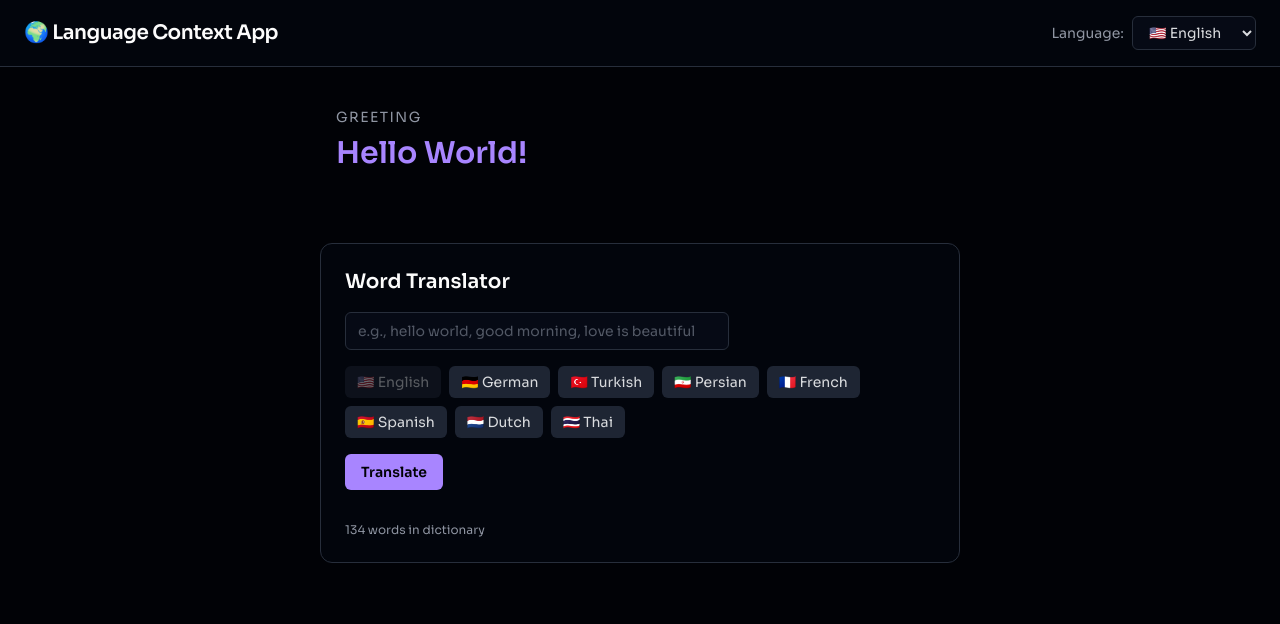
it: shows indicator for unknown words
Type a word that doesn't exist in dictionary
In the field with placeholder "e.g., hello world, good morning, love is beautiful": {"x": 537, "y": 331} [345,312,729,350], type "xyzunknown123"
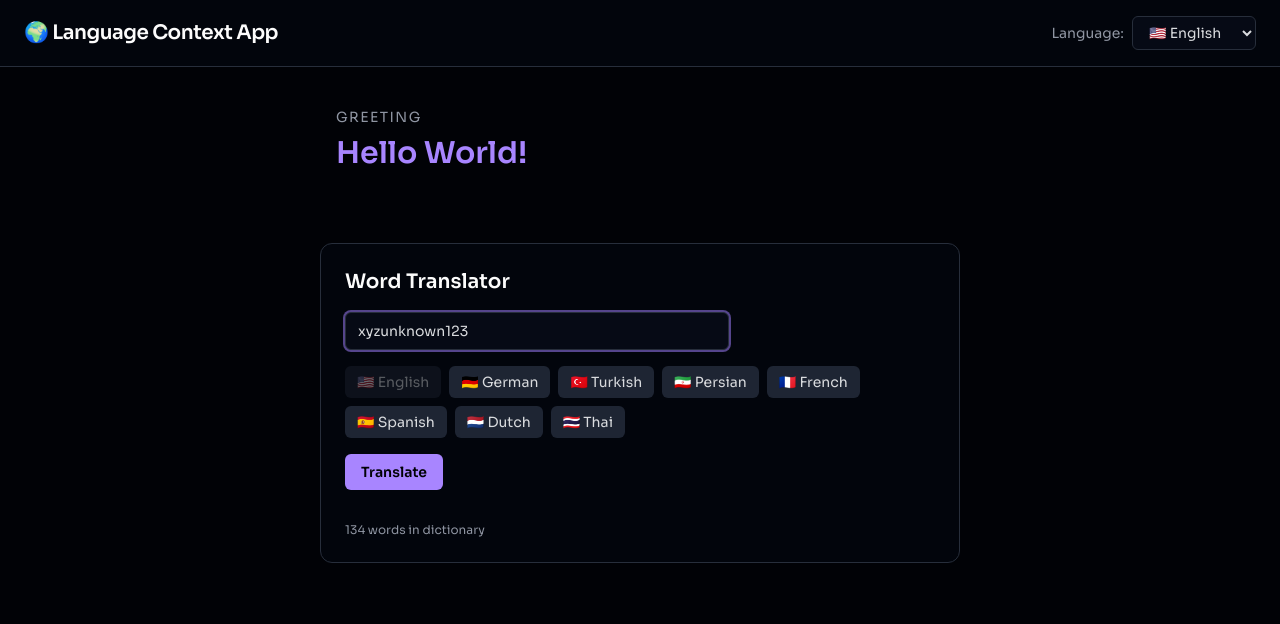
Click the button "Translate": {"x": 394, "y": 472} [345,454,443,490]
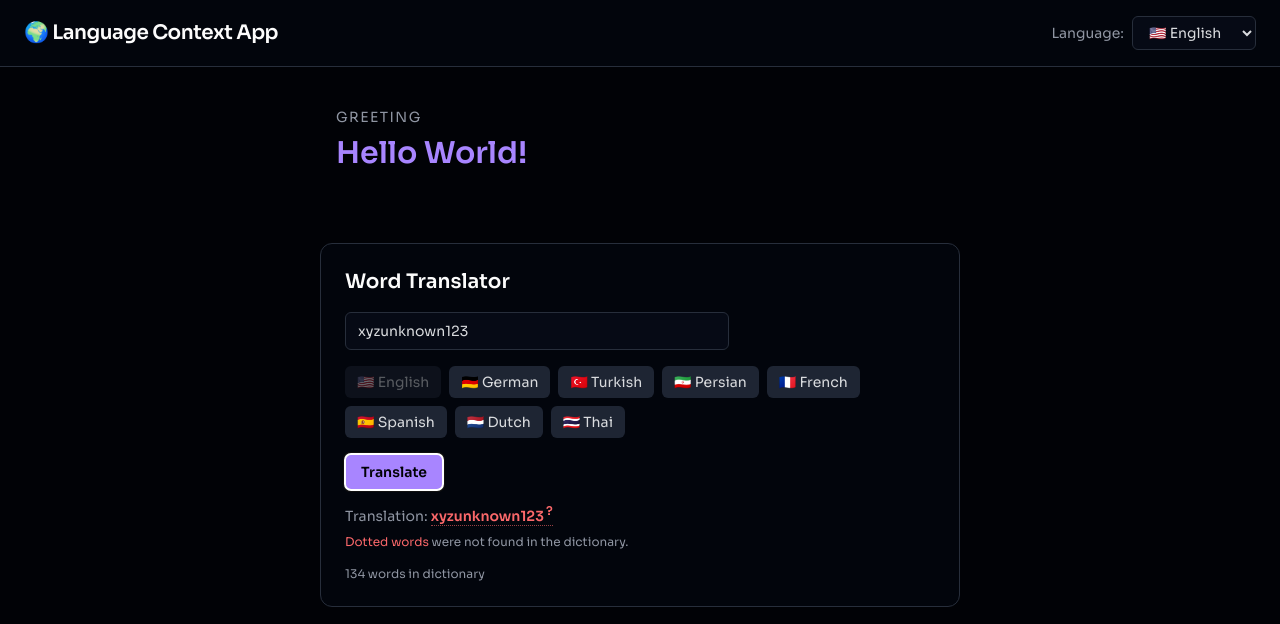
expect the text "Dotted words were not found in the dictionary." is shown: met, box [345,534,628,549]
